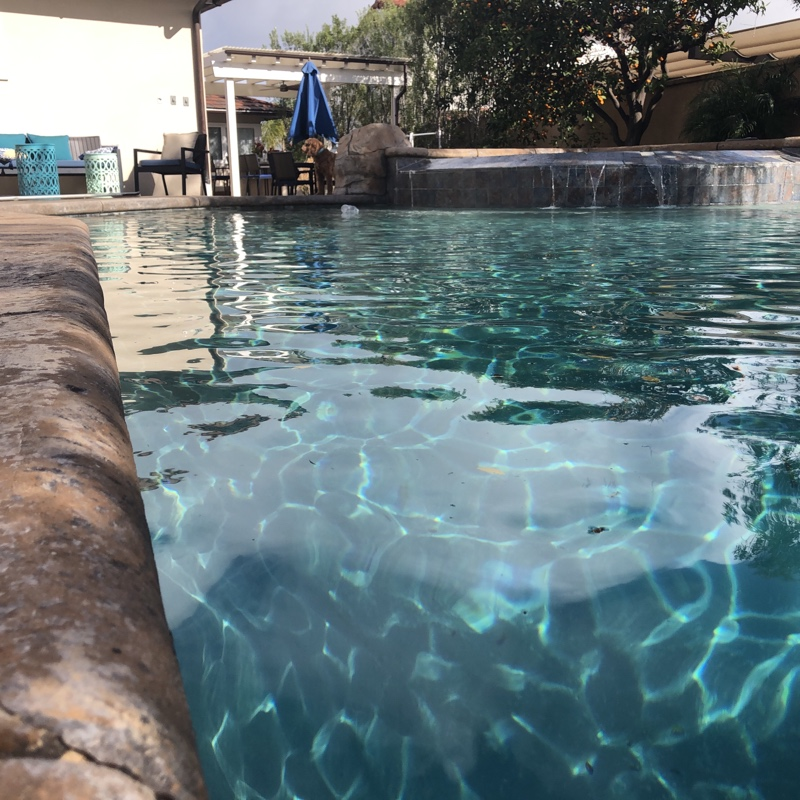Plastic Bottle: (338, 202, 364, 220)
